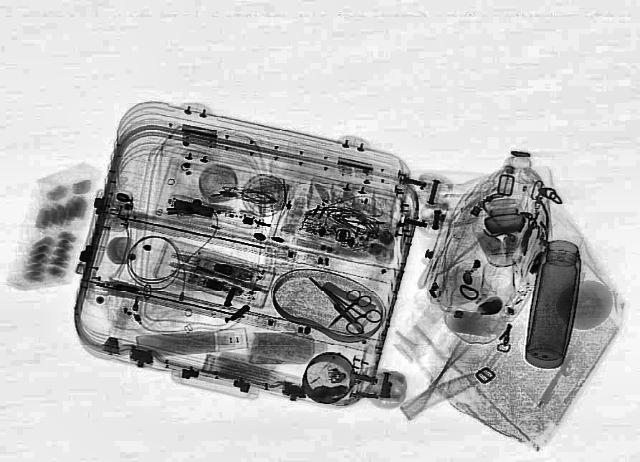Scissors: (292, 270, 384, 336), (308, 286, 374, 332)
